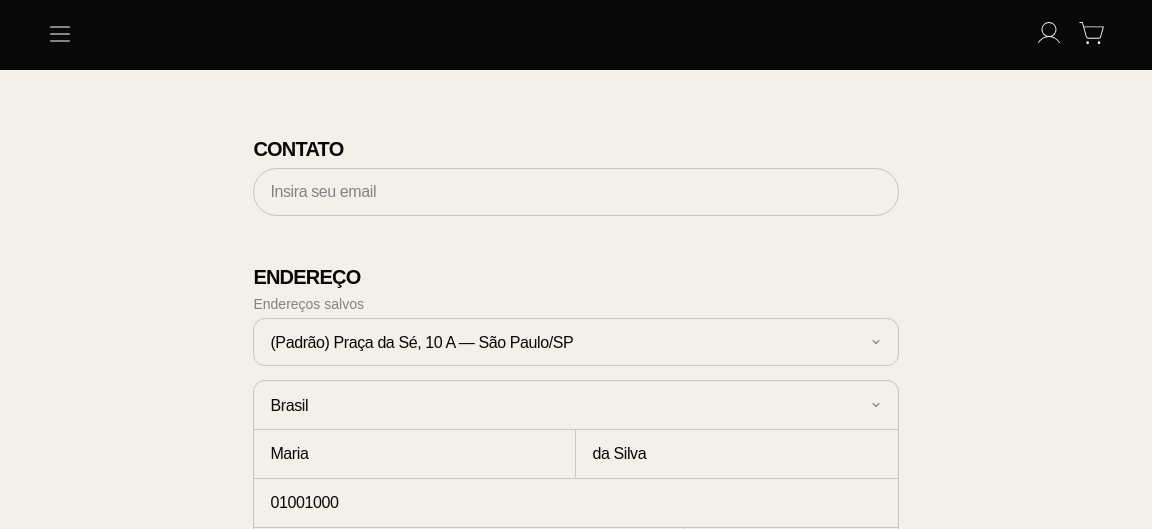
Test: define padrão com PATCH explícito e reflete os marcadores da resposta atualizada
The width and height of the screenshot is (1152, 529).
Step 1. Select "Rua da Assembleia, 20 — Rio de Janeiro/RJ" in the dropdown with id "endereco-salvo-checkout" → (576, 342), box [253,318,898,366]
(page scrolled)
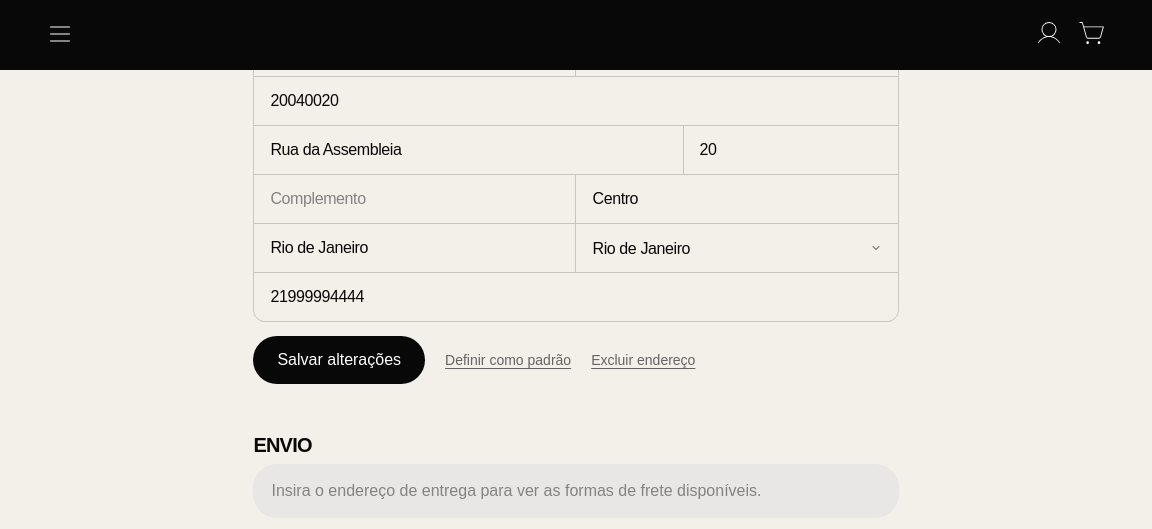
Check: the button "Definir como padrão" is shown
Step 2. Click the button "Definir como padrão" → (508, 360), box [445,346,571,374]
(page scrolled)
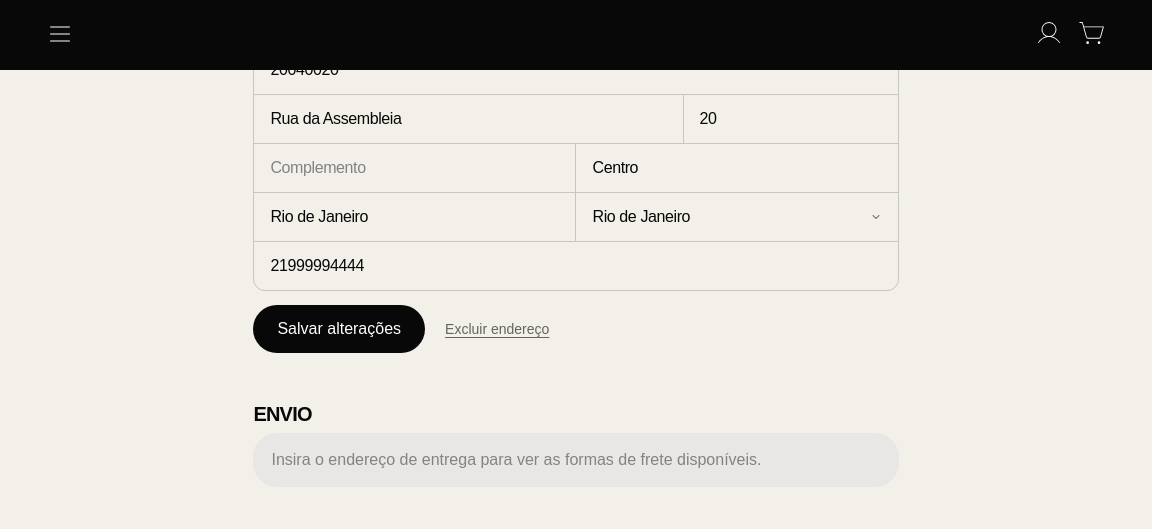
Check: the text "(Padrão)" is not shown
Check: the text "Definir como padrão" is gone
